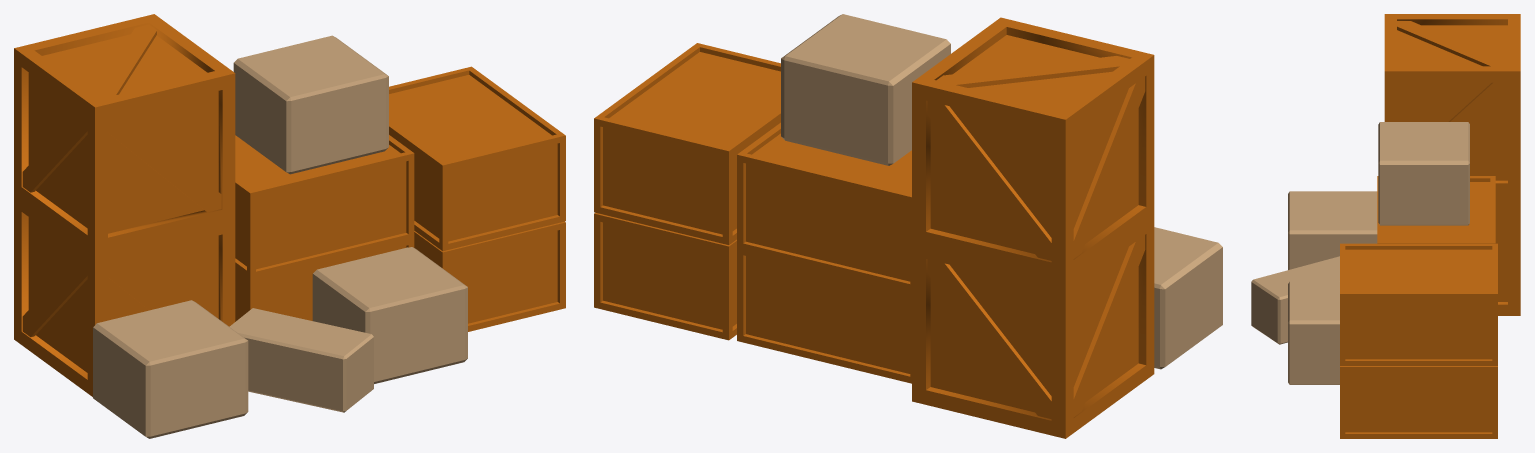
The model's file is Prop_Boxes_D.fbx.
3 views of the same model, side by side, from view 1: azimuth 30°, elevation 25°; view 2: azimuth 150°, elevation 25°; view 3: azimuth 270°, elevation 25° (orthographic). The views are drawn at different scales.
Parts seen in each view (by area): view 1: Prop_Boxes_D; view 2: Prop_Boxes_D; view 3: Prop_Boxes_D.
Part boxes in pixels (left/top/right/bottom): Prop_Boxes_D: left=14, top=14, right=565, bottom=438; Prop_Boxes_D: left=594, top=14, right=1222, bottom=438; Prop_Boxes_D: left=1251, top=14, right=1520, bottom=438.
Size of the model in its own units: 132 by 215 by 133.
